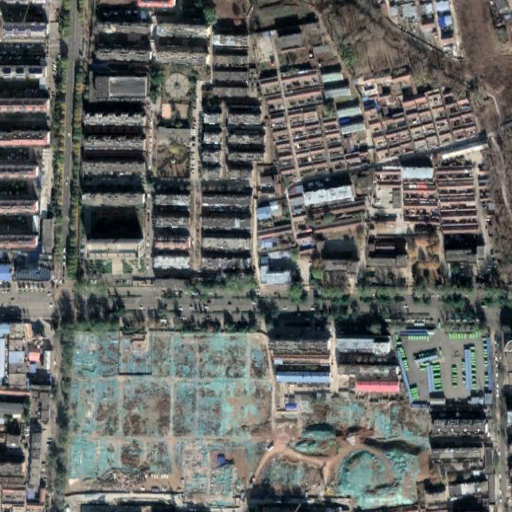cw: (71, 329, 429, 512)
